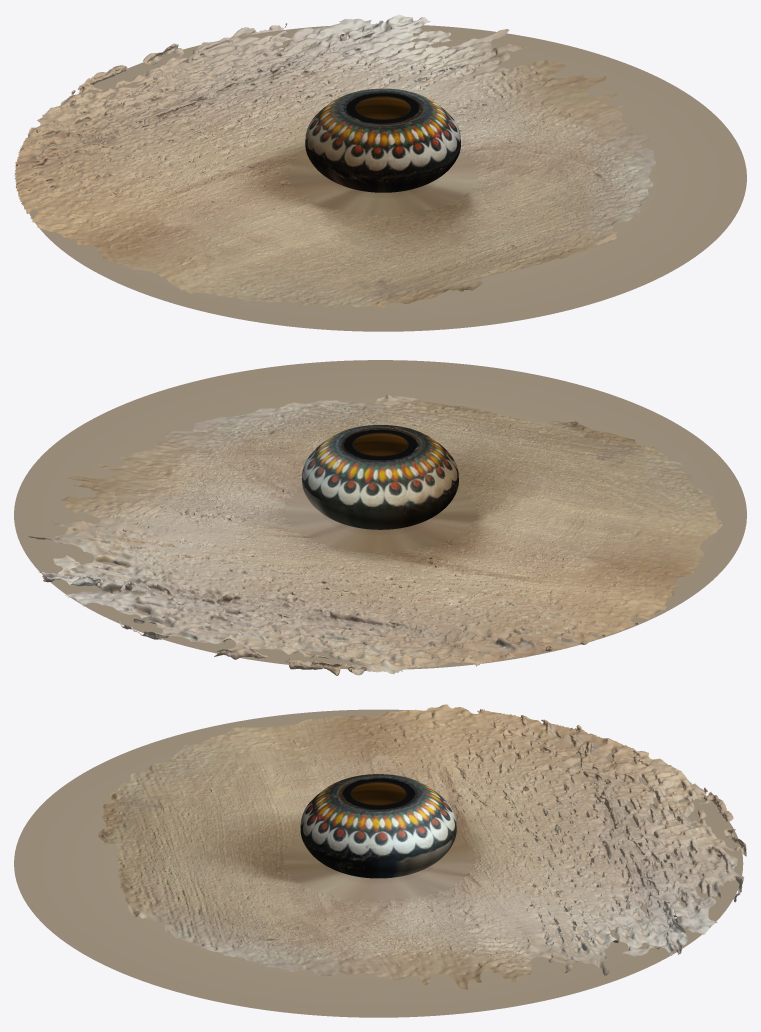
Rendered from tasita_mejorado.glb.
3 renders of one model, top to bottom at view 1: azimuth 30°, elevation 25°; view 2: azimuth 150°, elevation 25°; view 3: azimuth 270°, elevation 25°, orthographic.
Parts seen in each view (by area): view 1: objeto, base_rellenada, tasita, mesa_parche; view 2: objeto, base_rellenada, tasita, mesa_parche; view 3: objeto, base_rellenada, tasita, mesa_parche.
Part boxes in pixels (x1,y1,x2,y2): objeto: (14,14,655,307); base_rellenada: (29,25,746,331); tasita: (305,88,460,192); mesa_parche: (288,151,477,214); objeto: (24,395,723,675); base_rellenada: (14,360,746,669); tasita: (302,425,458,529); mesa_parche: (285,488,475,552); objeto: (98,704,746,989); base_rellenada: (14,709,743,1017); tasita: (300,774,456,878); mesa_parche: (283,837,473,900).
Bounding box in the file's own units: 0.3462 × 0.0399 × 0.348.
Materials: 5 (2 with a texture image).
